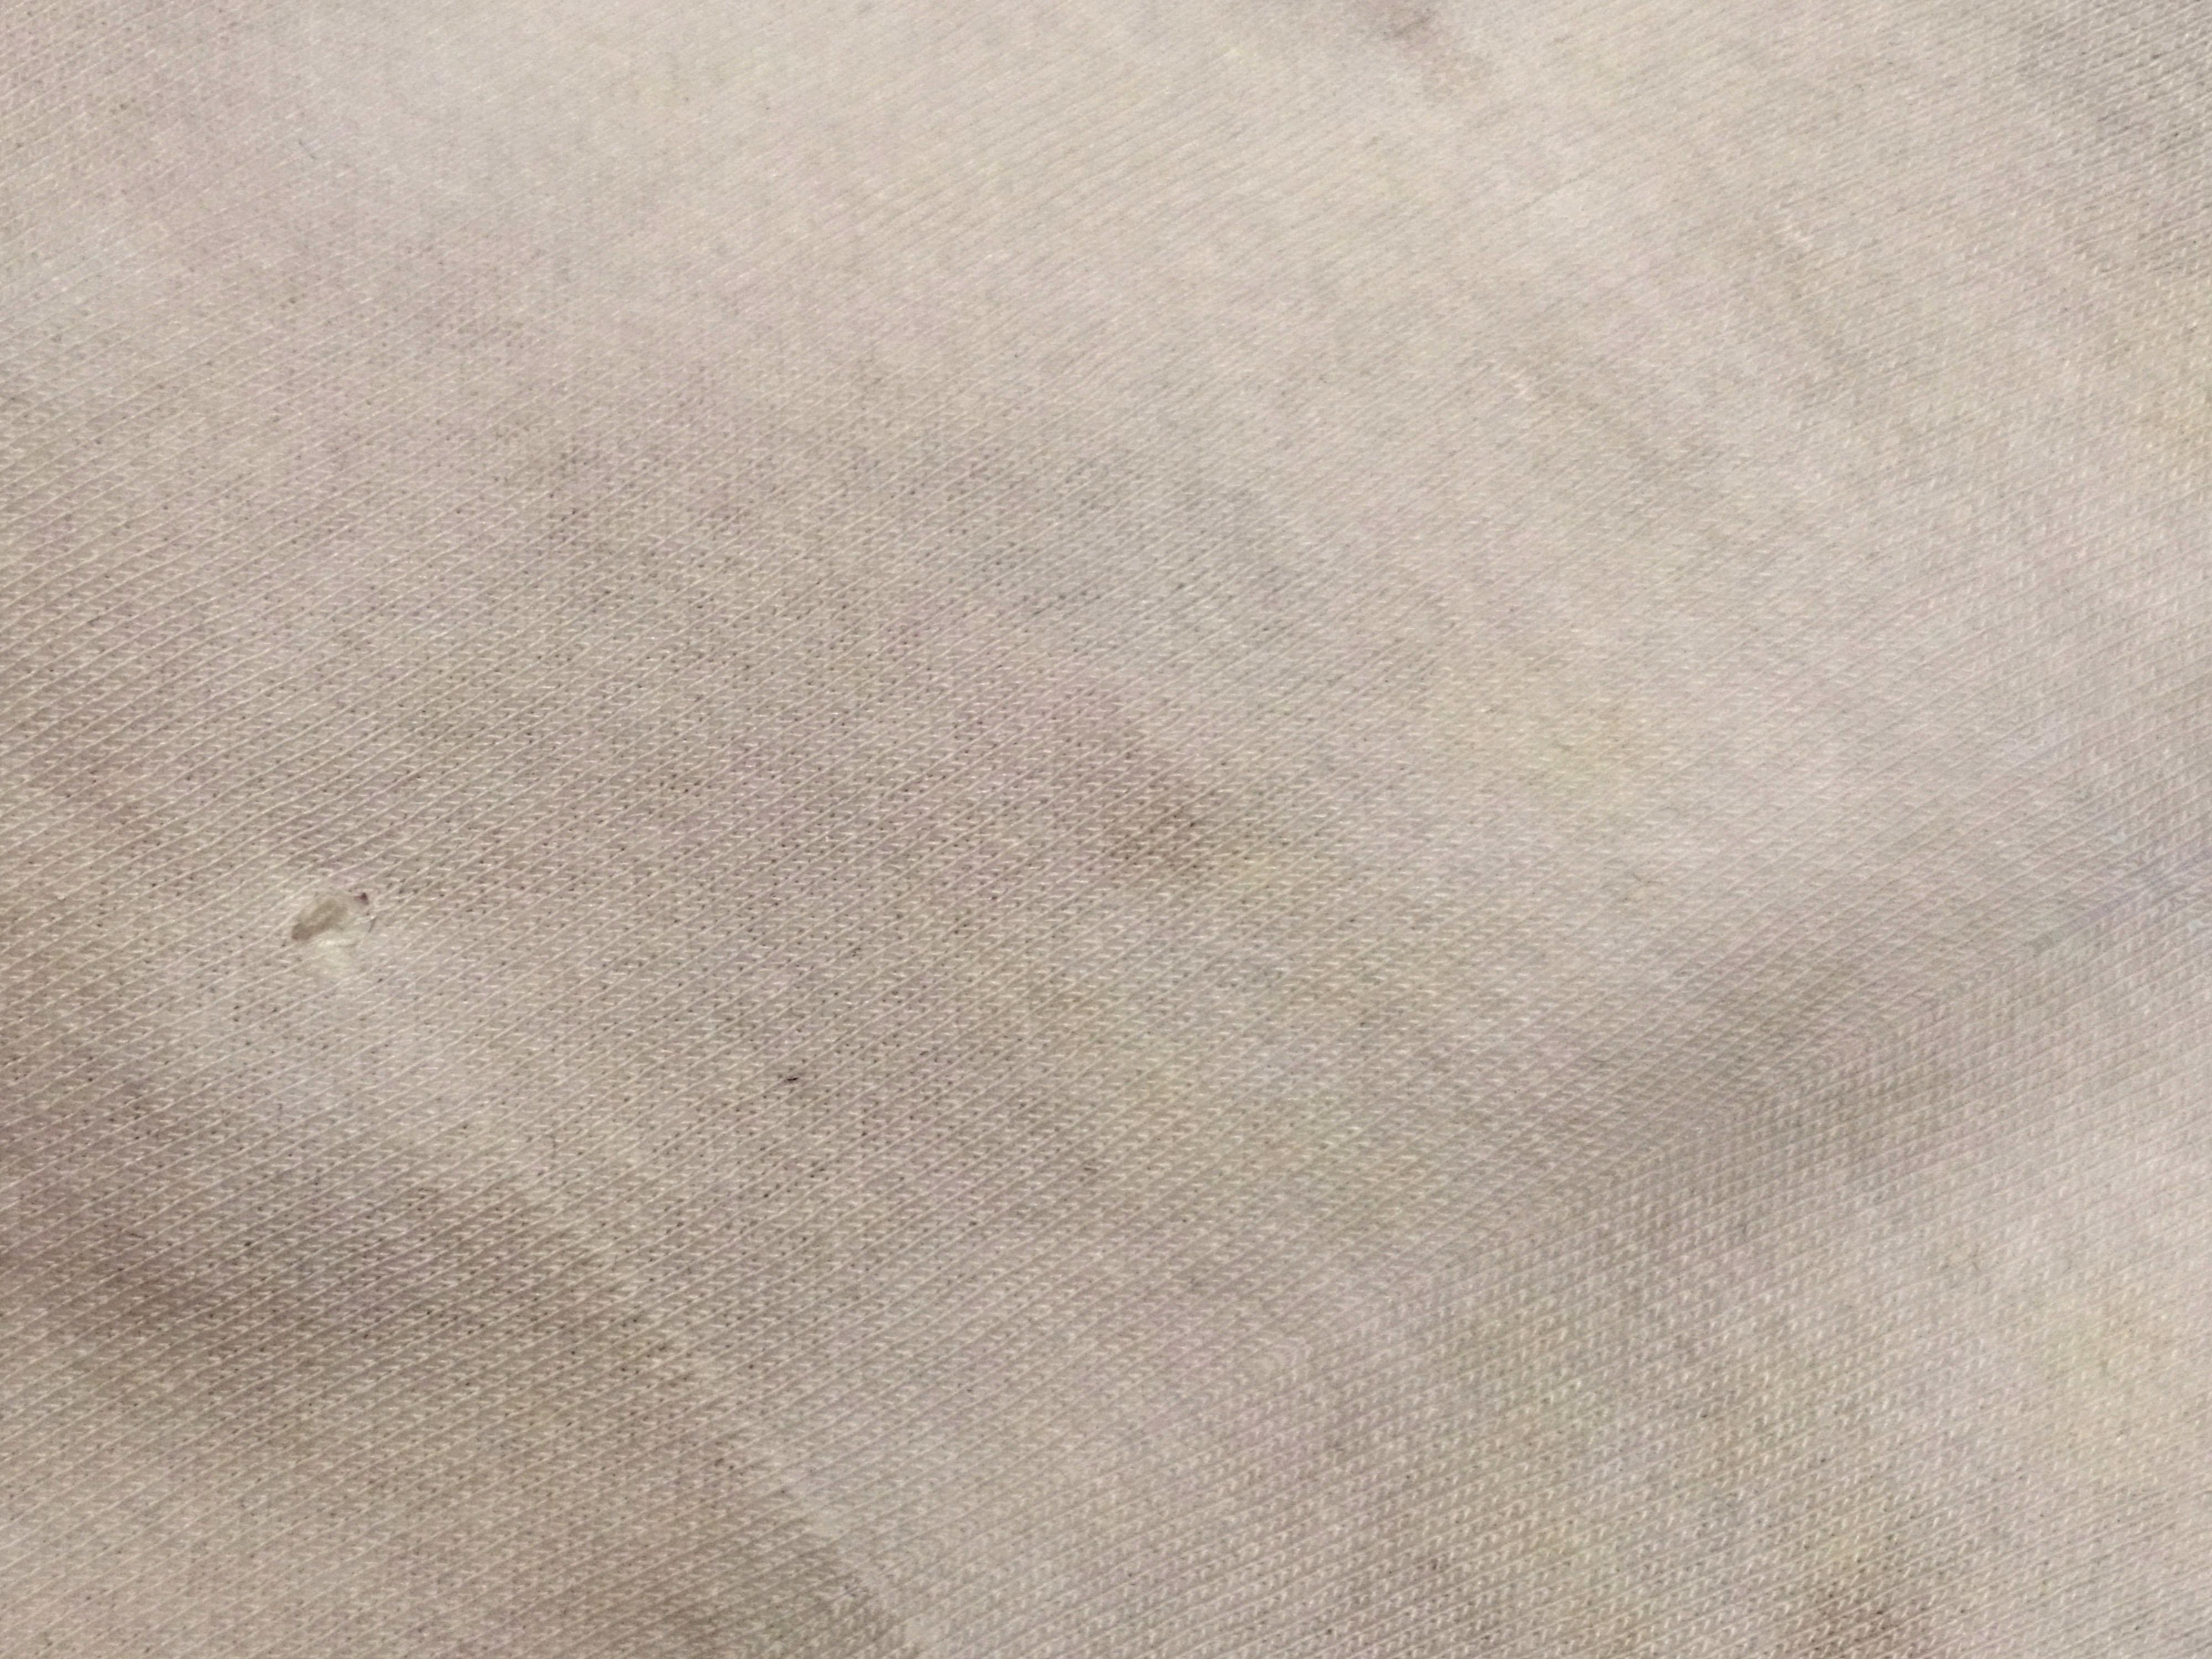knot: (256, 859, 415, 986)
